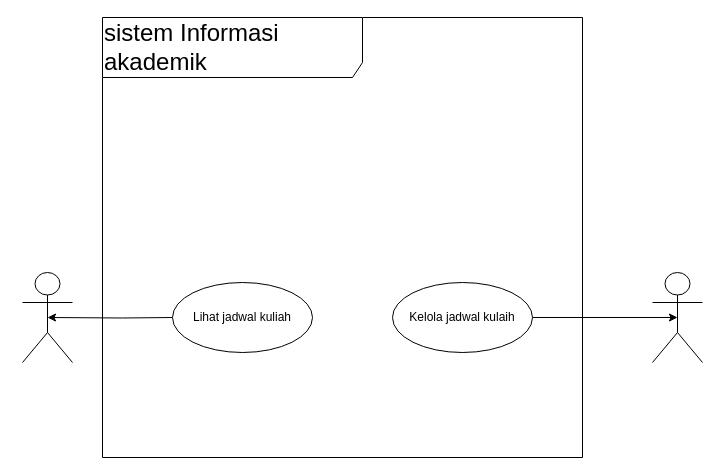
The diagram is 720 pixels wide and 475 high, and some of its shapes have lost their labels. The shapes that lost their labels are listed below. From the top down, each one's centre as x and y in pixels, then its label:
the point at 47,317: Mahasiswa
the point at 677,317: Petugas
